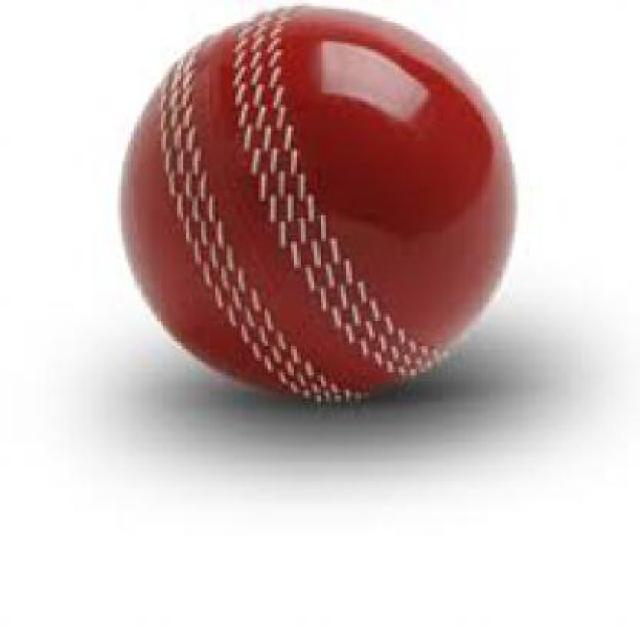ball: (97, 0, 558, 430)
